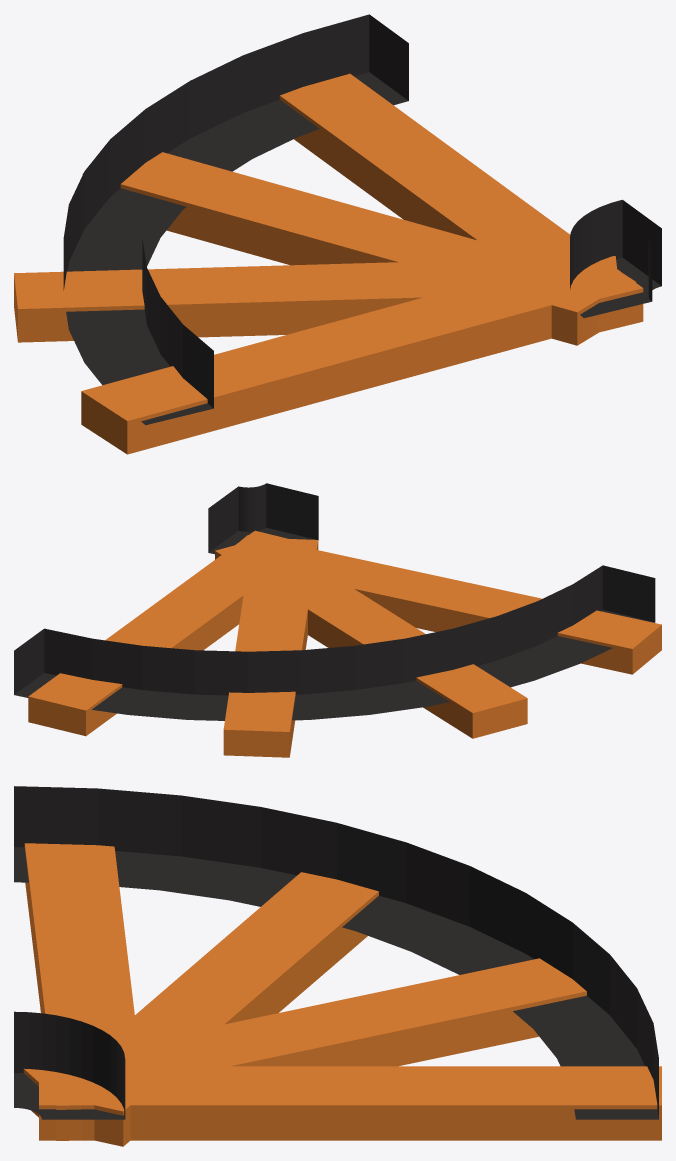
File: Trilho_curvo.glb
3 renders of one model, top to bottom at view 1: azimuth 30°, elevation 25°; view 2: azimuth 150°, elevation 25°; view 3: azimuth 270°, elevation 25°, orthographic. The views are drawn at different scales.
Visible parts, largest first — view 1: Trilho_curvo; view 2: Trilho_curvo; view 3: Trilho_curvo.
Boxes of the visible parts, x1,y1,x2,y2 form: Trilho_curvo: [14, 14, 661, 454]; Trilho_curvo: [14, 483, 661, 757]; Trilho_curvo: [14, 786, 661, 1146].
Size of the model in its own units: 0.9899 by 0.1509 by 0.9627.
